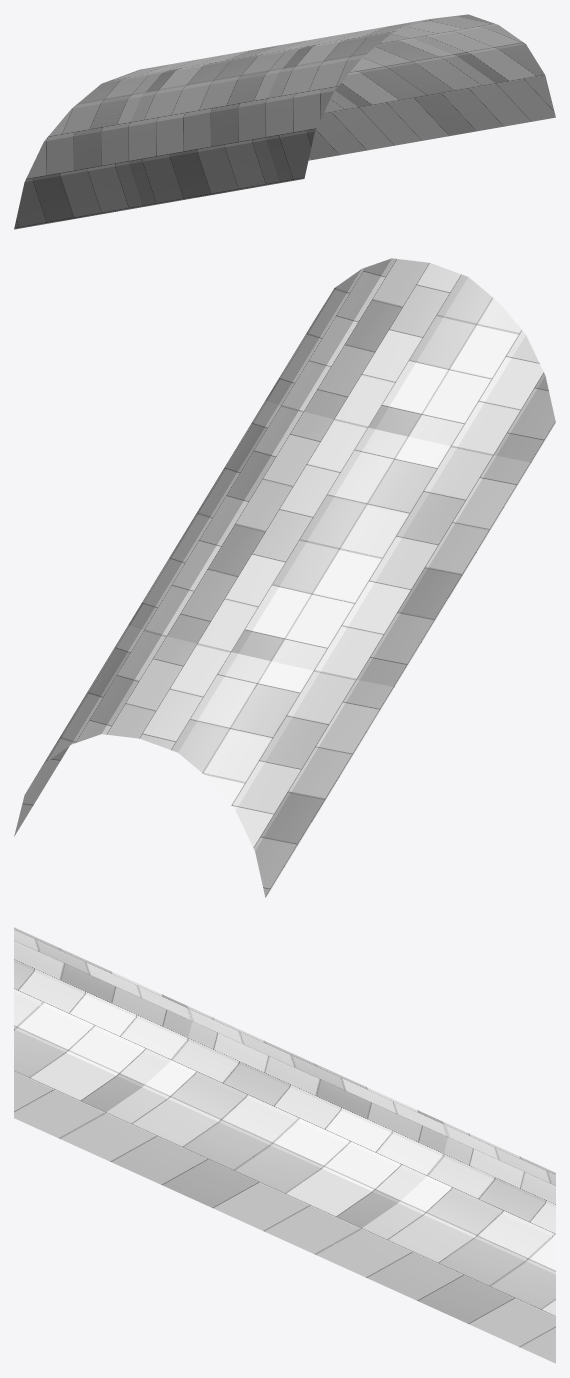
Rendered from Ceiling_Stairs.fbx.
3 renders of one model, top to bottom at view 1: azimuth 30°, elevation 25°; view 2: azimuth 150°, elevation 25°; view 3: azimuth 270°, elevation 25°, orthographic. The views are drawn at different scales.
Visible parts, largest first — view 1: Plane.039; view 2: Plane.039; view 3: Plane.039.
Part boxes in pixels (x1=…): Plane.039: x1=14, y1=14, x2=555, y2=229; Plane.039: x1=14, y1=258, x2=555, y2=898; Plane.039: x1=14, y1=927, x2=555, y2=1363.
Size of the model in its own units: 200 by 298 by 400.
